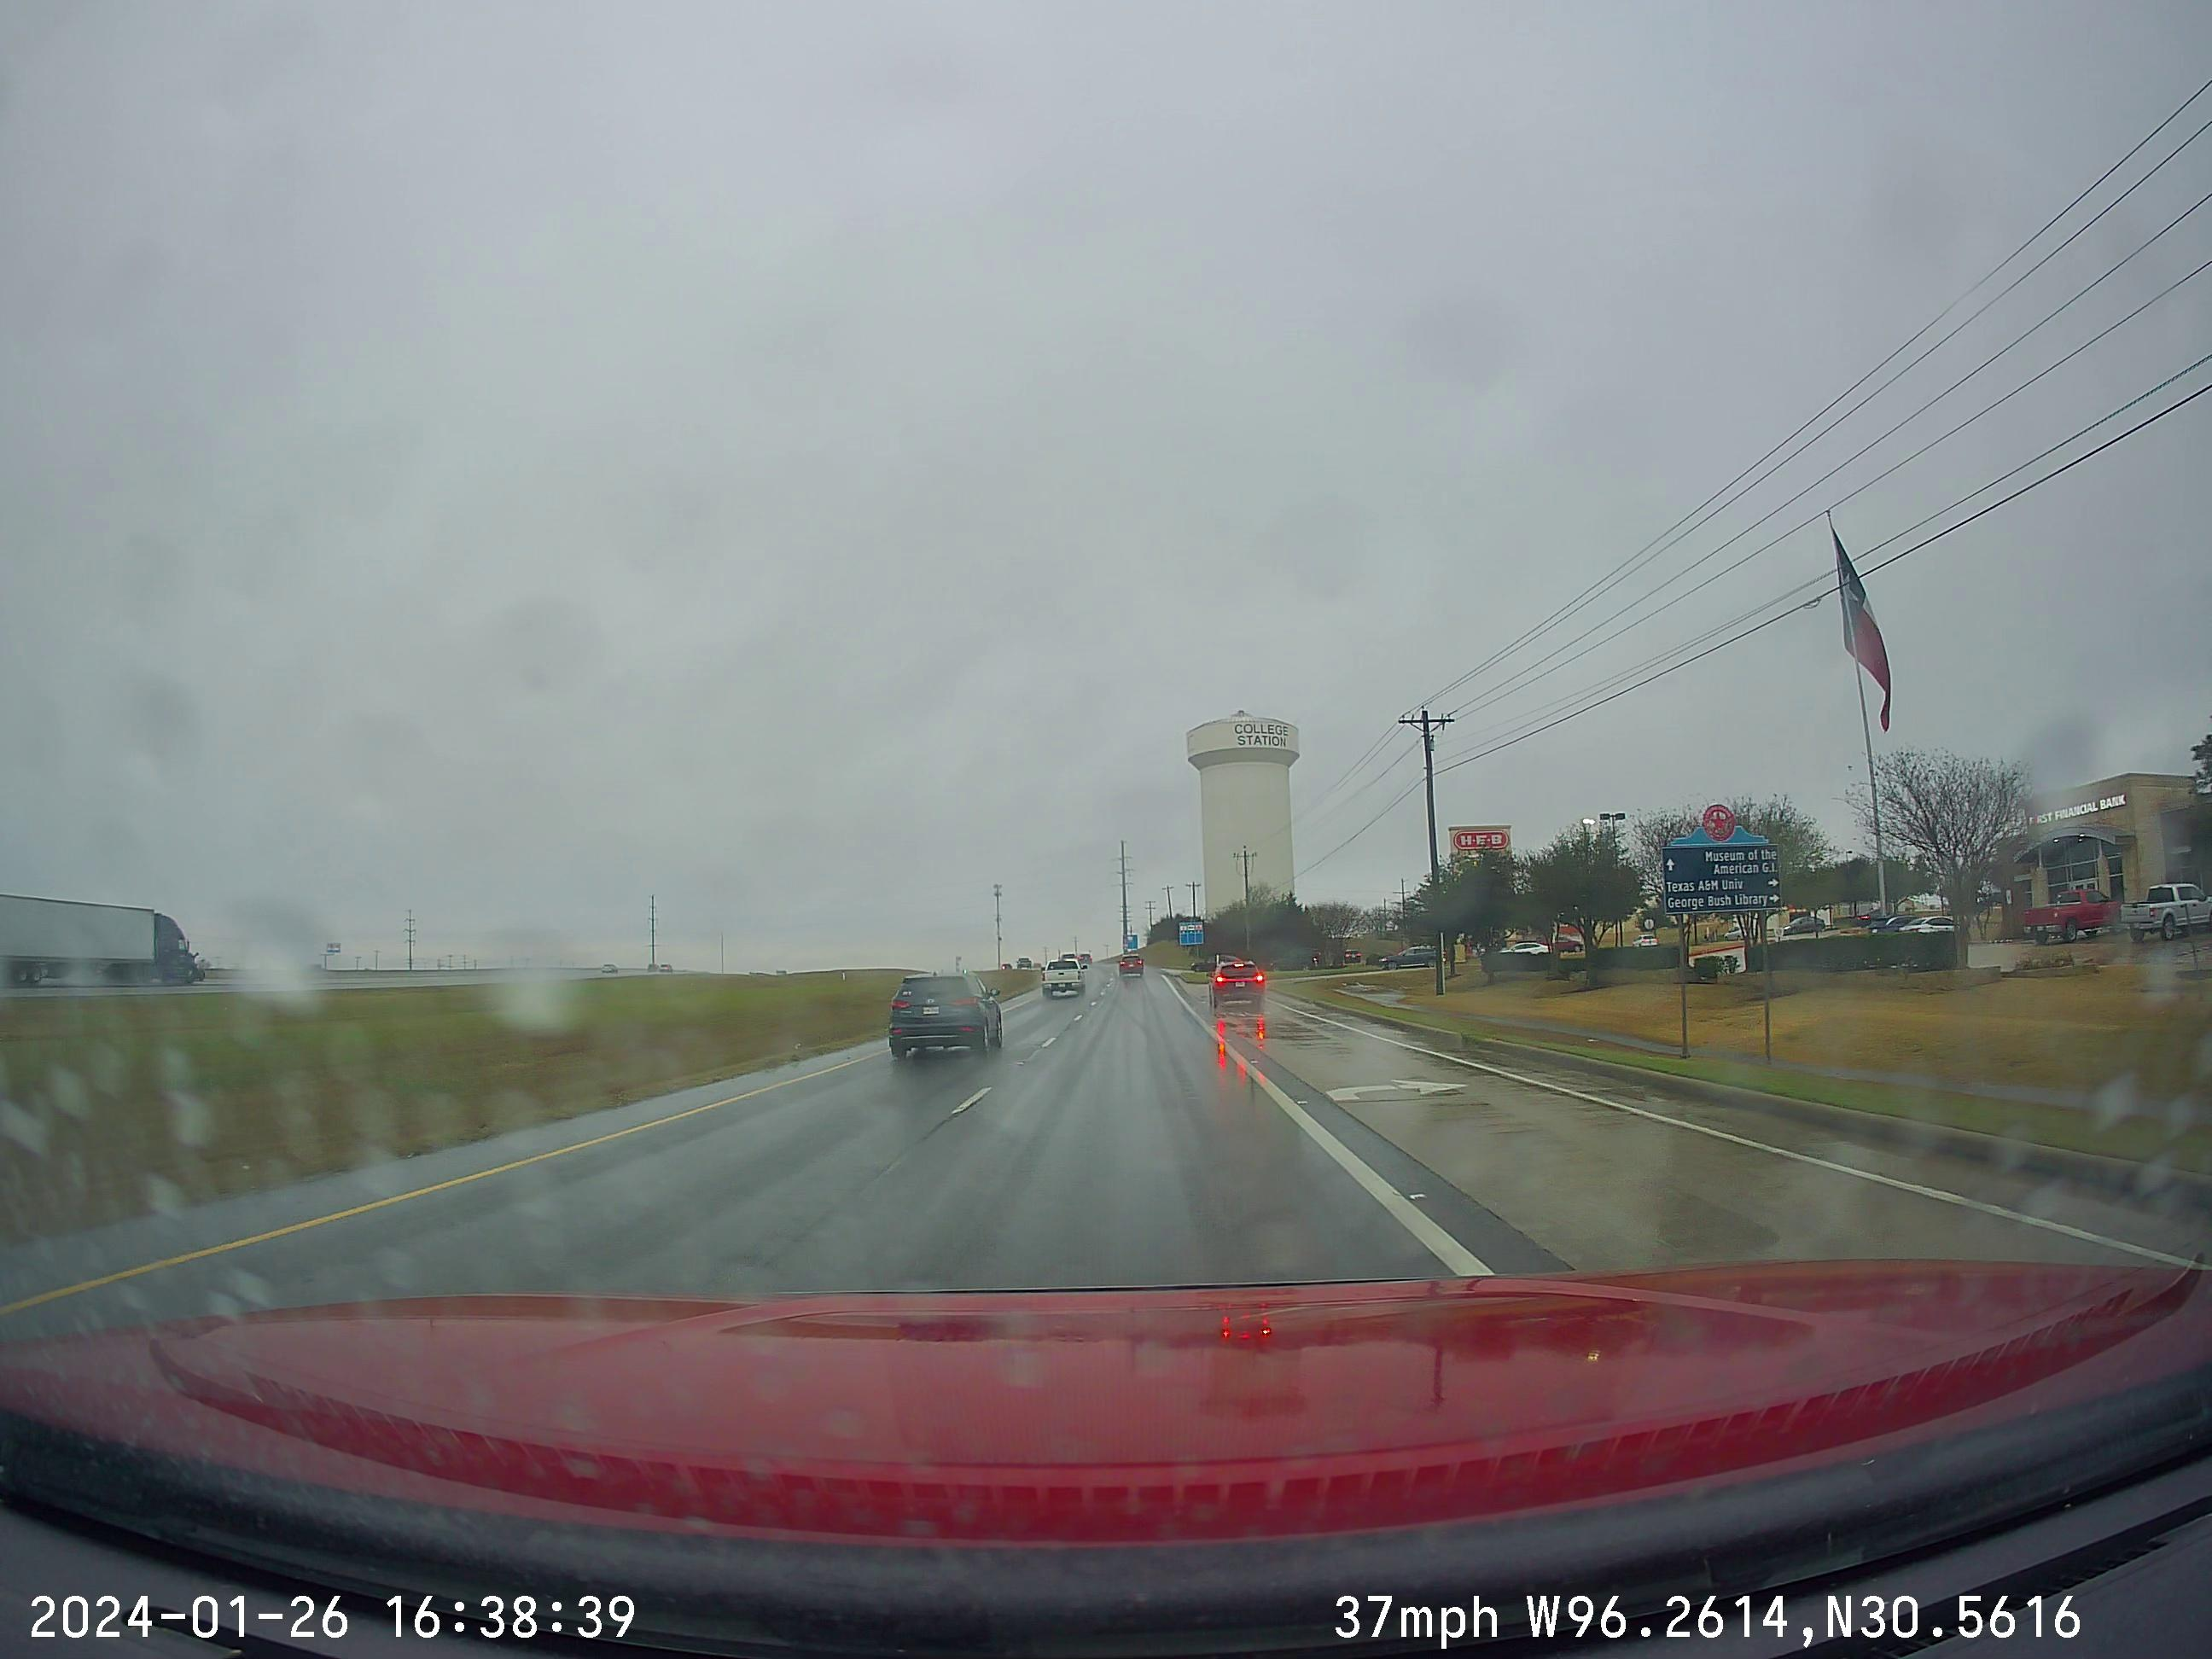car: (888, 973, 1002, 1057)
